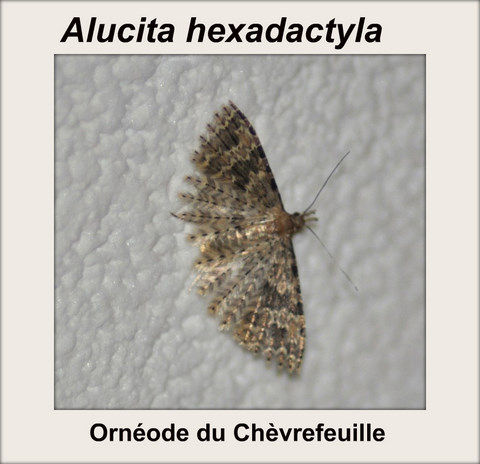Alucitidae: (168, 103, 370, 377)
moth: (166, 101, 368, 375)
